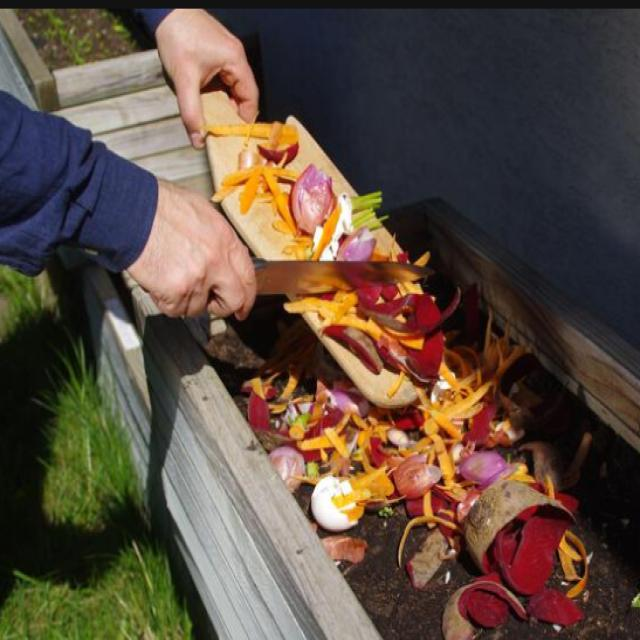paper: (464, 464, 587, 595), (298, 460, 382, 534), (283, 156, 342, 248), (344, 172, 393, 248)
